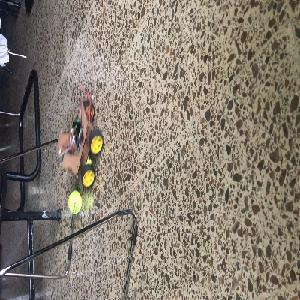Ball: (68, 190, 81, 214)
Robot: (58, 100, 103, 188)
